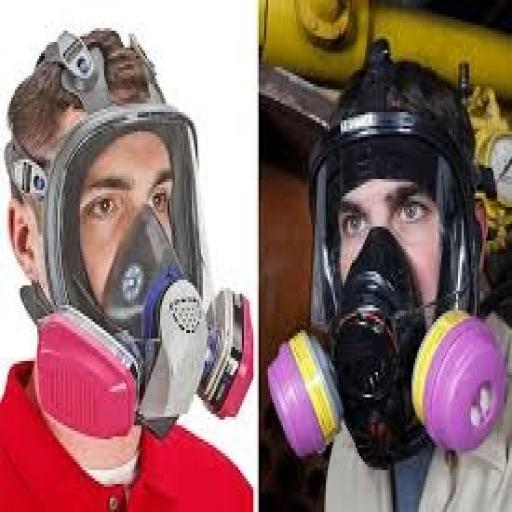mask: (267, 220, 511, 483), (26, 212, 262, 430)
